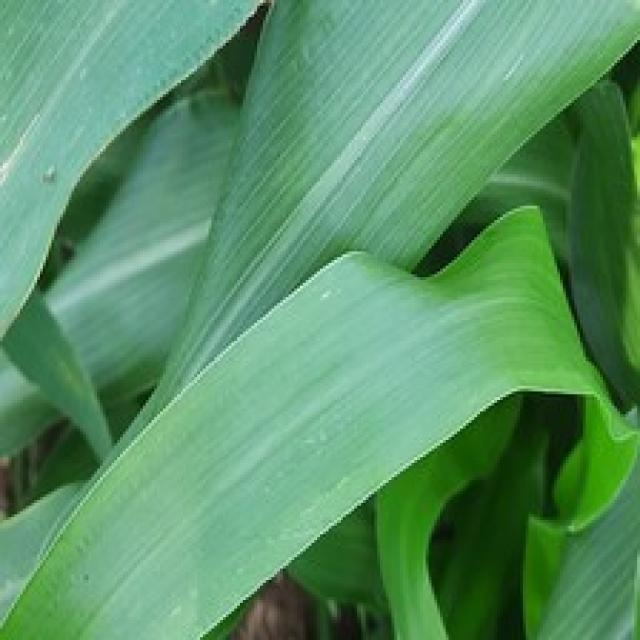Corn: (0, 0, 637, 637), (0, 0, 280, 466)
